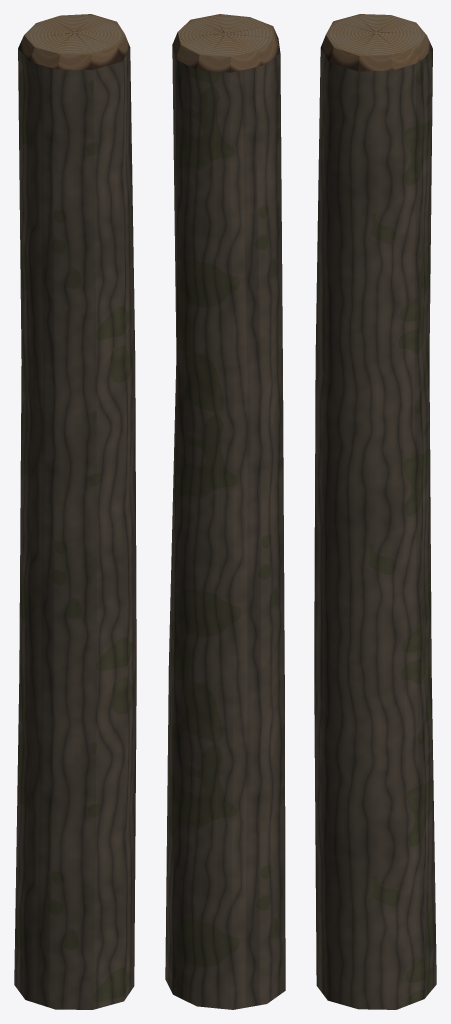
The model's file is S7U_NetPole.fbx.
The picture shows the model from 3 angles, left to right: view 1: azimuth 90°, elevation 25°; view 2: azimuth 150°, elevation 25°; view 3: azimuth 270°, elevation 25°; orthographic projection.
Visible parts, largest first — view 1: S7U_NetPole; view 2: S7U_NetPole; view 3: S7U_NetPole.
Part boxes in pixels (box(x1,y1,x2,y2)): S7U_NetPole: box(14, 14, 136, 1009); S7U_NetPole: box(165, 14, 285, 1009); S7U_NetPole: box(314, 14, 436, 1009).
Bounding box in the file's own units: 0.0964 × 0.8646 × 0.1008.
